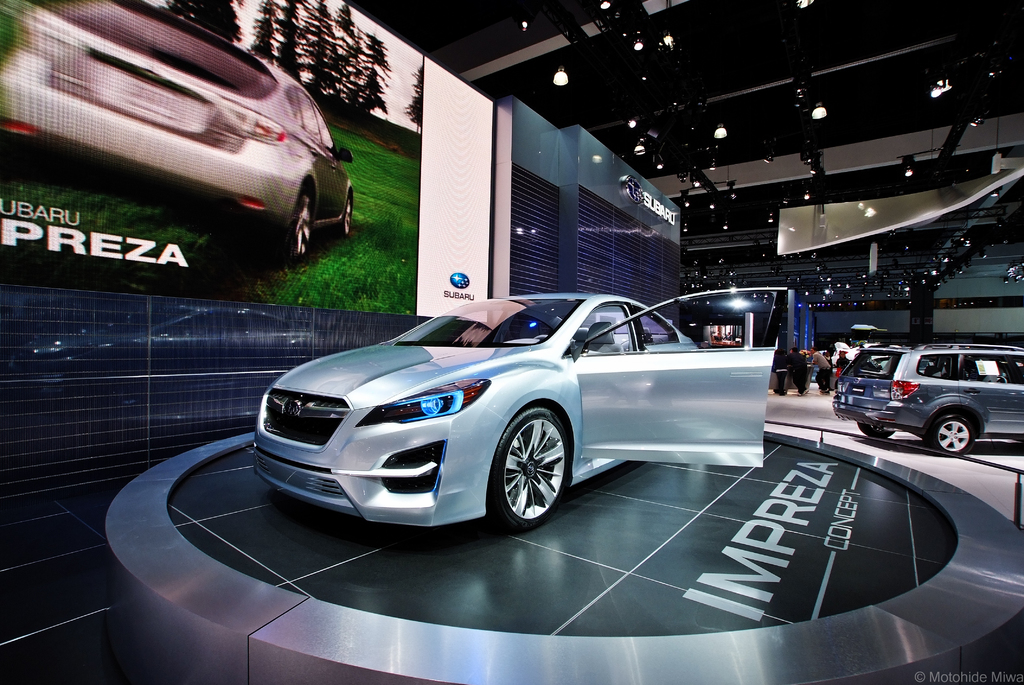cars: (249, 285, 788, 529), (0, 0, 355, 263), (833, 342, 1023, 455)
